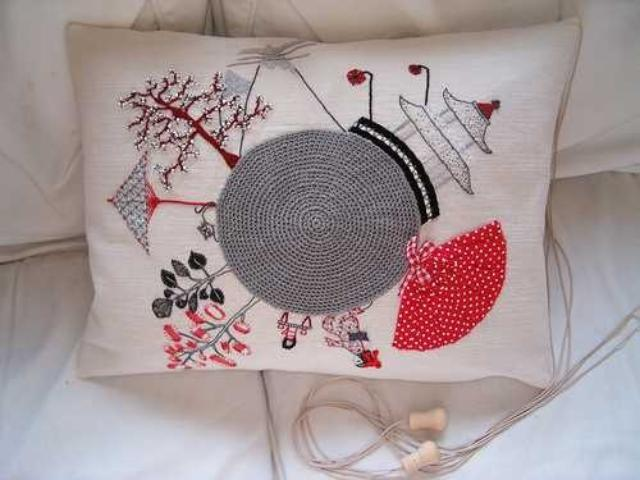pillow: (64, 15, 584, 386)
